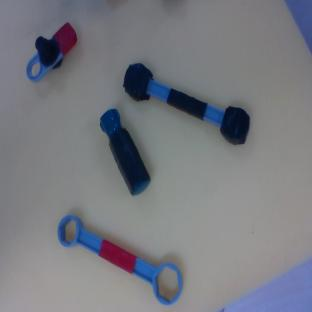part_1_good: (15, 14, 83, 89)
part_2_bad: (94, 107, 154, 197)
part_3_bad: (117, 60, 257, 149)
part_3_good: (50, 205, 191, 310)
